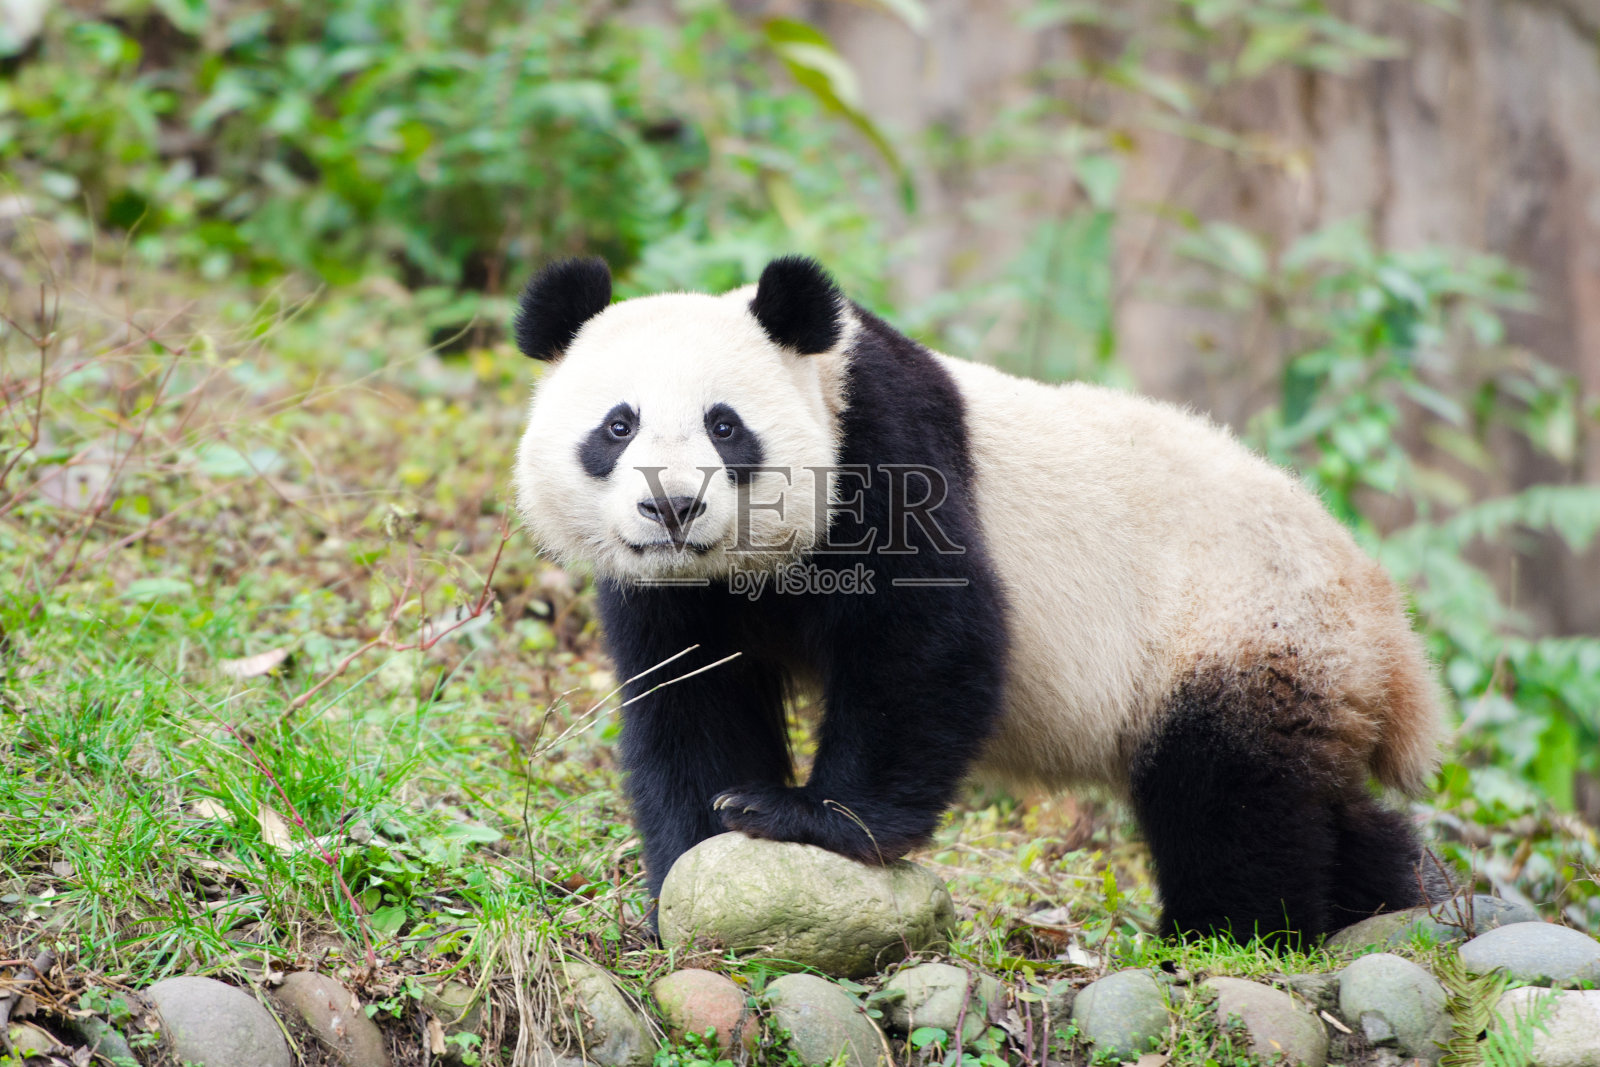panda: (465, 242, 1471, 1002)
